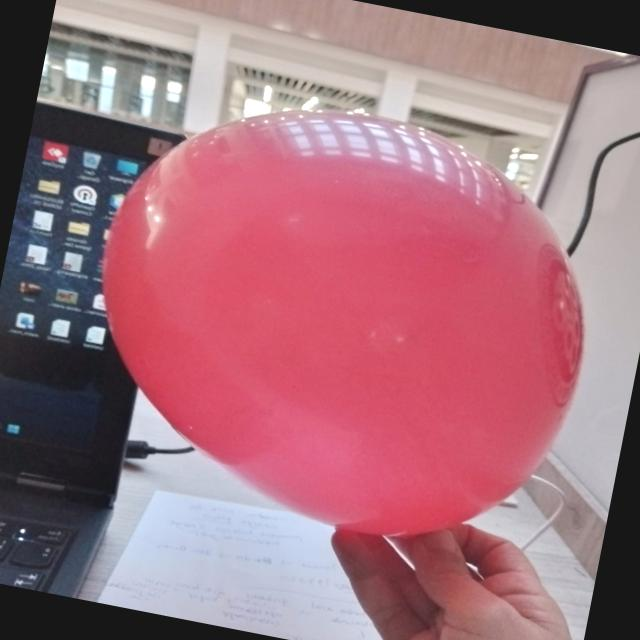balloon: (103, 112, 584, 537)
